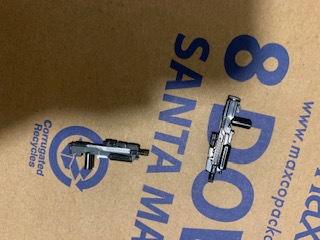rifle: (204, 96, 252, 184), (70, 136, 150, 169)
